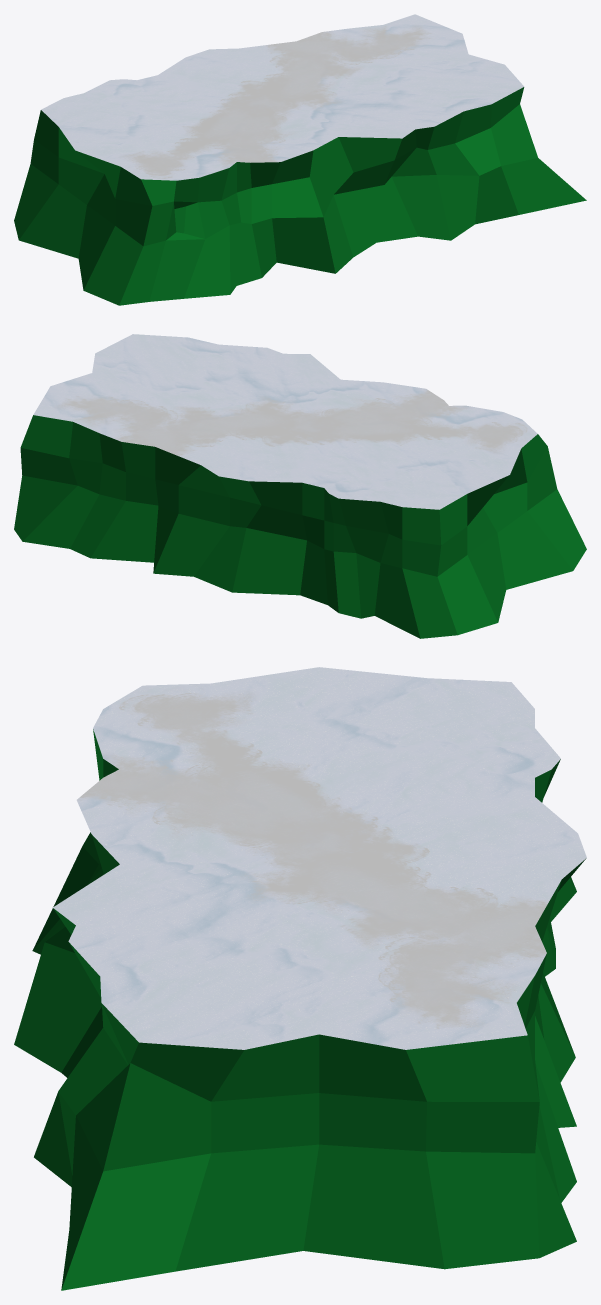
File: Arena3.FBX
3 renders of one model, top to bottom at view 1: azimuth 30°, elevation 25°; view 2: azimuth 150°, elevation 25°; view 3: azimuth 270°, elevation 25°, orthographic. The views are drawn at different scales.
Parts seen in each view (by area): view 1: Arena3; view 2: Arena3; view 3: Arena3.
Part boxes in pixels (x1,y1,x2,y2): Arena3: (14,14,586,305); Arena3: (14,334,586,638); Arena3: (14,667,586,1290).
Bounding box in the file's own units: 12019 × 6633 × 2668.
